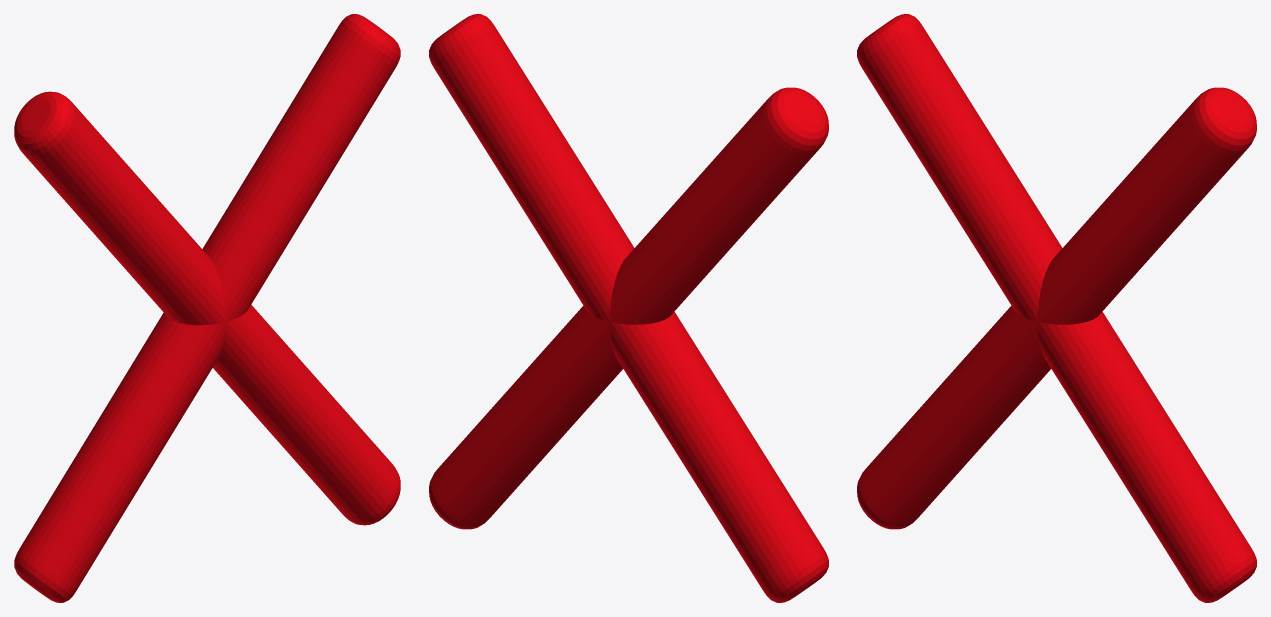
The picture shows the model from 3 angles, left to right: view 1: azimuth 30°, elevation 25°; view 2: azimuth 150°, elevation 25°; view 3: azimuth 330°, elevation 25°; orthographic projection.
Visible parts, largest first — view 1: Cylinder; view 2: Cylinder; view 3: Cylinder.
Part boxes in pixels (bbox=[...]): Cylinder: bbox=[14, 14, 400, 602]; Cylinder: bbox=[429, 14, 828, 602]; Cylinder: bbox=[857, 14, 1256, 602].
Size of the model in its own units: 0.7893 by 1 by 0.1445.
